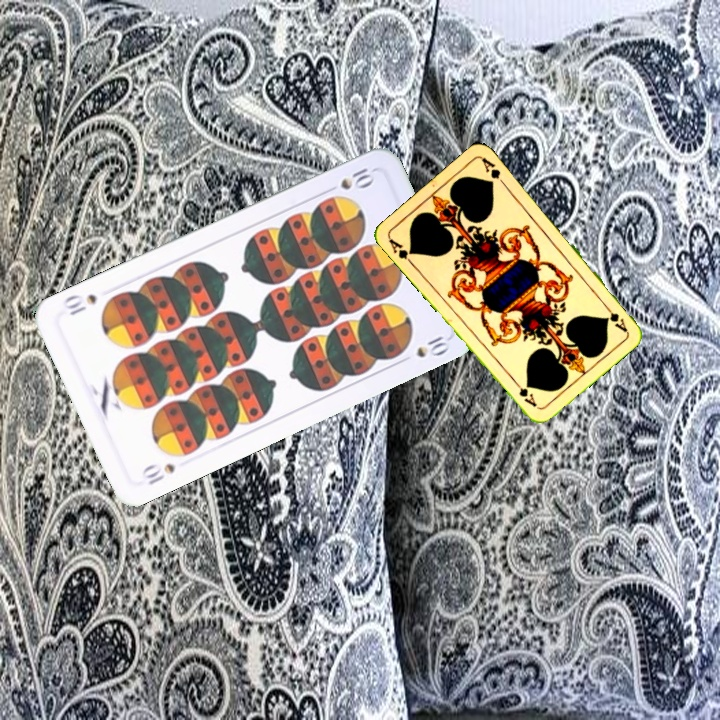GA: (384, 234, 417, 268), (599, 300, 630, 335)
S10: (336, 163, 378, 193), (137, 459, 178, 488)
